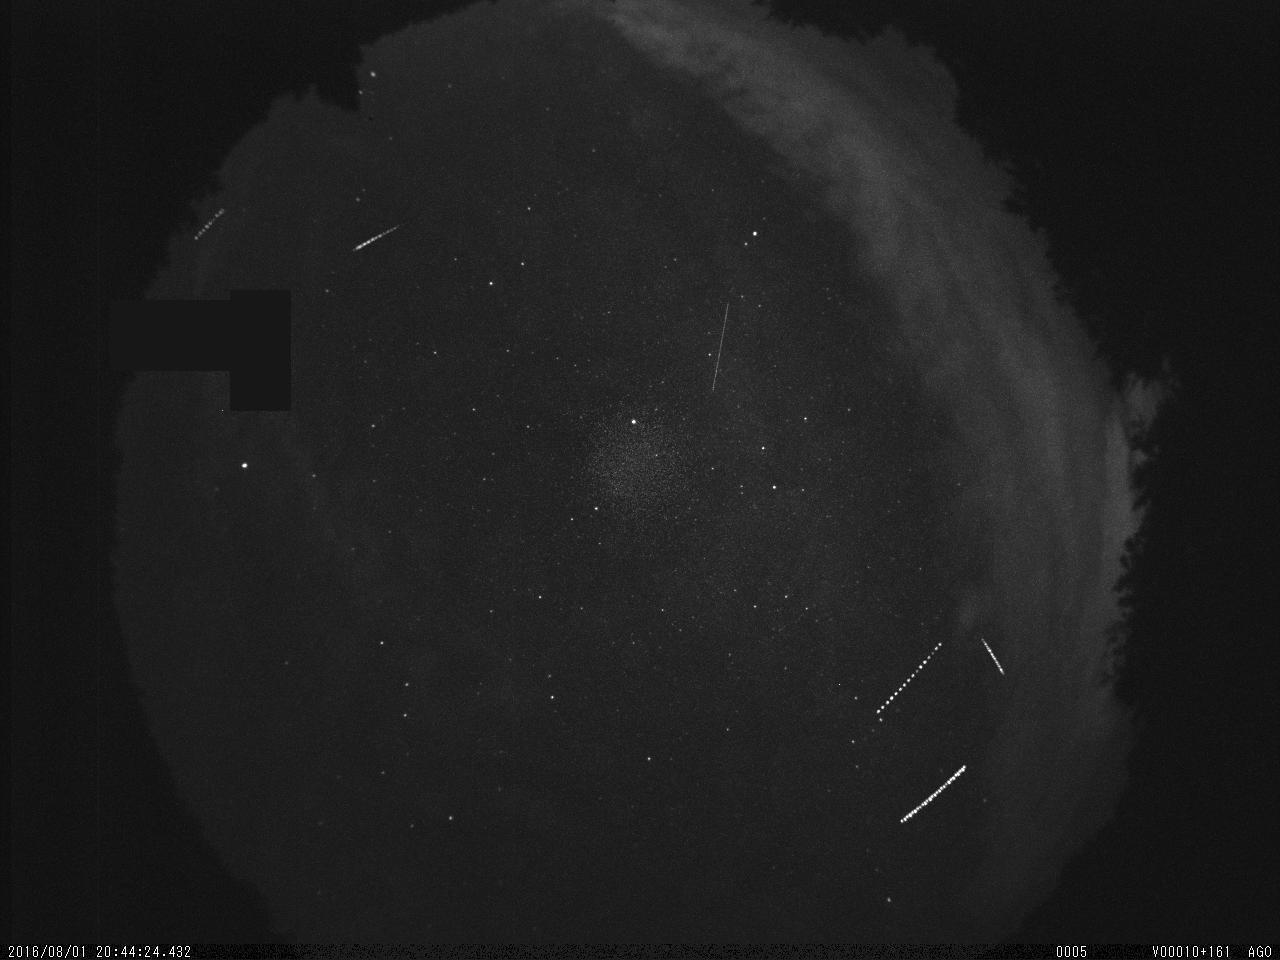Meteor: (346, 218, 412, 259)
